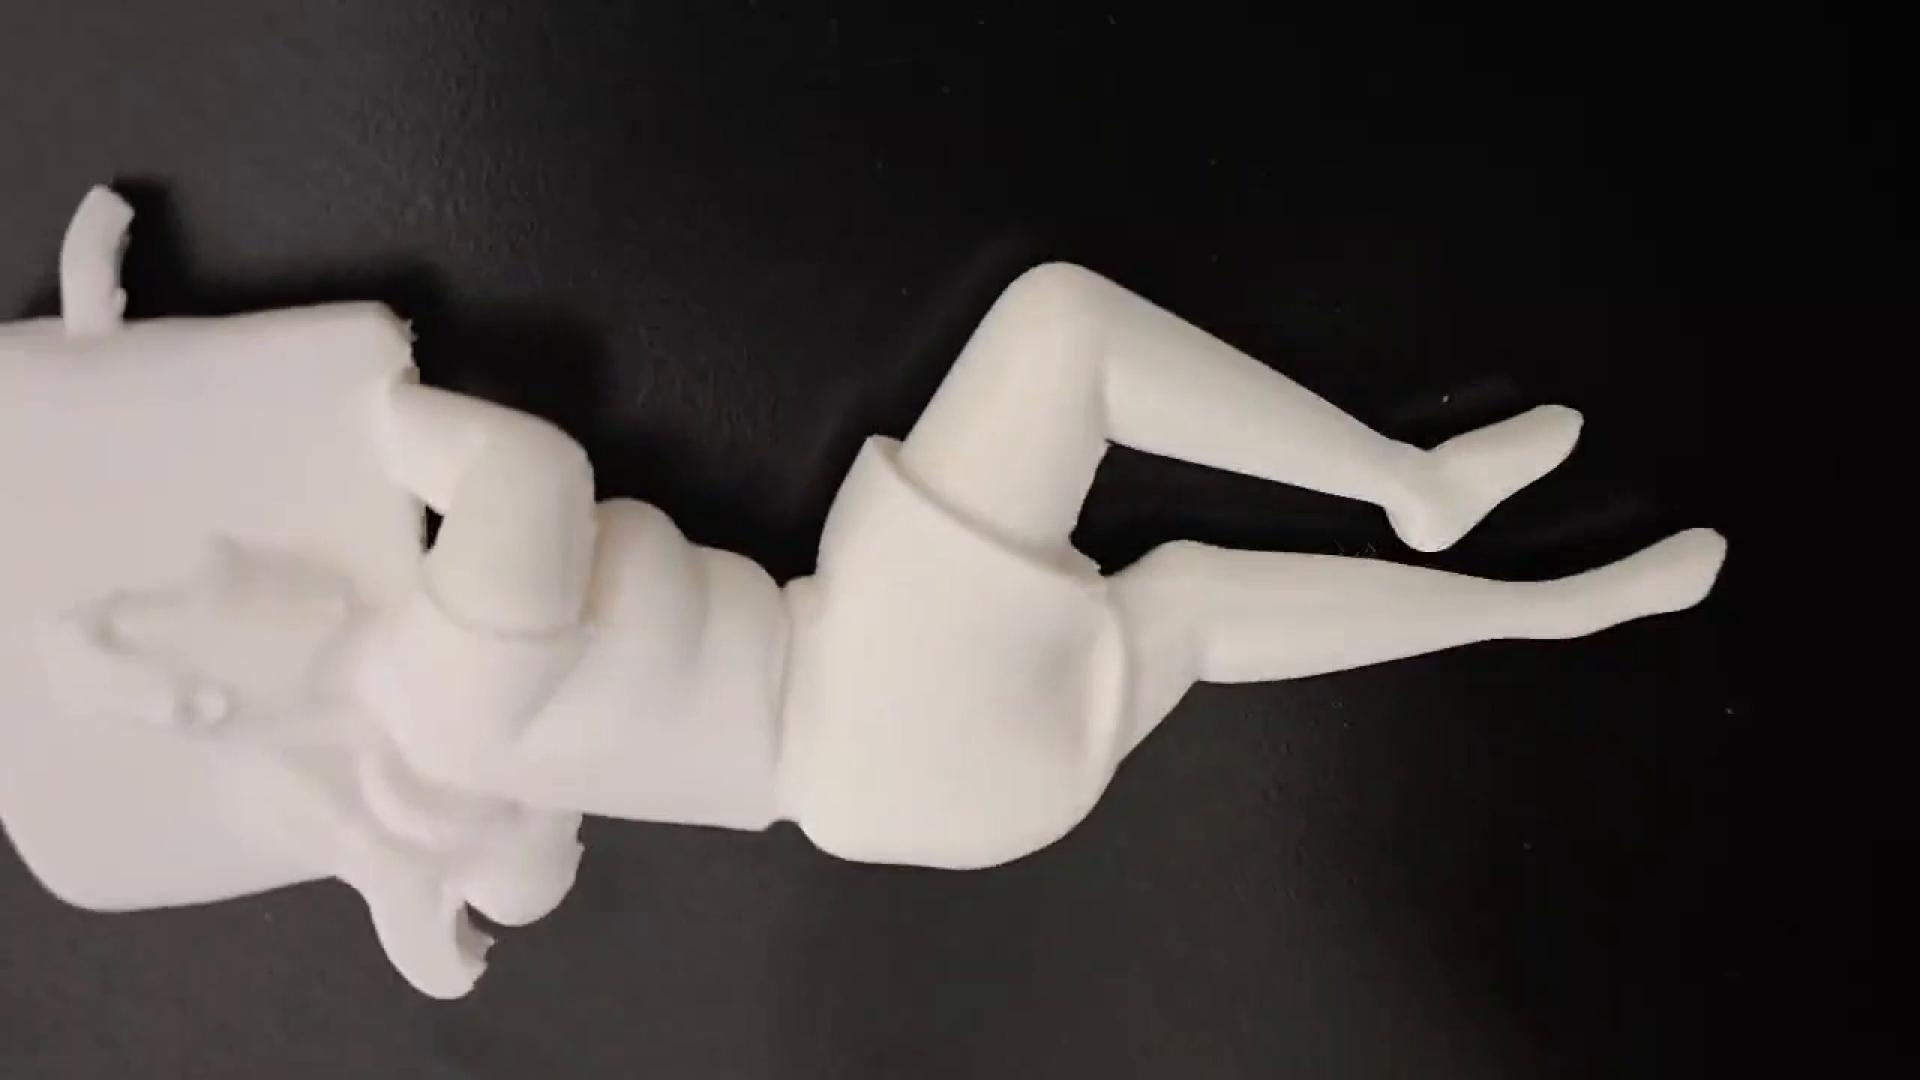Good-style: (0, 156, 1753, 1039)
